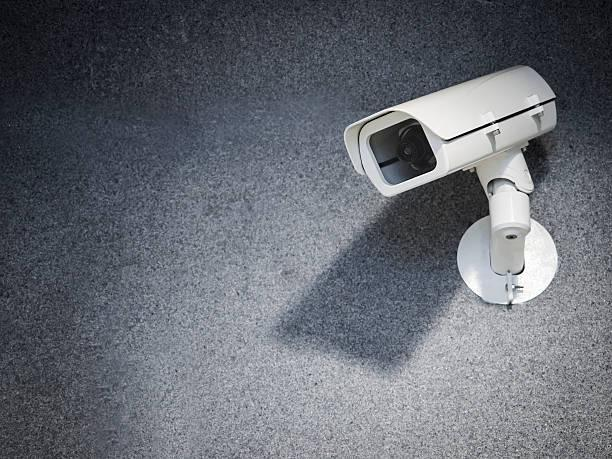camera: (318, 28, 583, 298)
